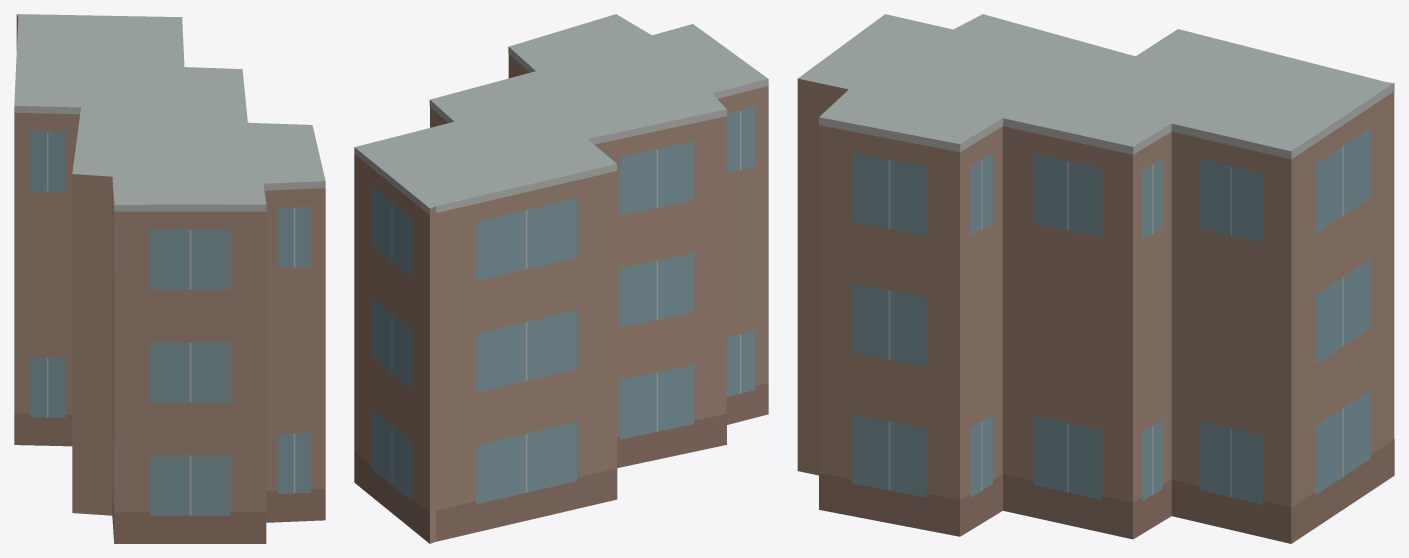
Rendered from survey-upis-32501945.glb.
3 views of the same model, side by side, from view 1: azimuth 30°, elevation 25°; view 2: azimuth 150°, elevation 25°; view 3: azimuth 270°, elevation 25° (orthographic). The views are drawn at different scales.
Visible parts, largest first — view 1: survey-upis-32501945.tmp; view 2: survey-upis-32501945.tmp; view 3: survey-upis-32501945.tmp.
Boxes of the visible parts, bbox=[...] form: survey-upis-32501945.tmp: bbox=[14, 14, 325, 543]; survey-upis-32501945.tmp: bbox=[354, 14, 768, 543]; survey-upis-32501945.tmp: bbox=[797, 14, 1394, 543].
Size of the model in its own units: 8.97 by 11.94 by 16.46.
